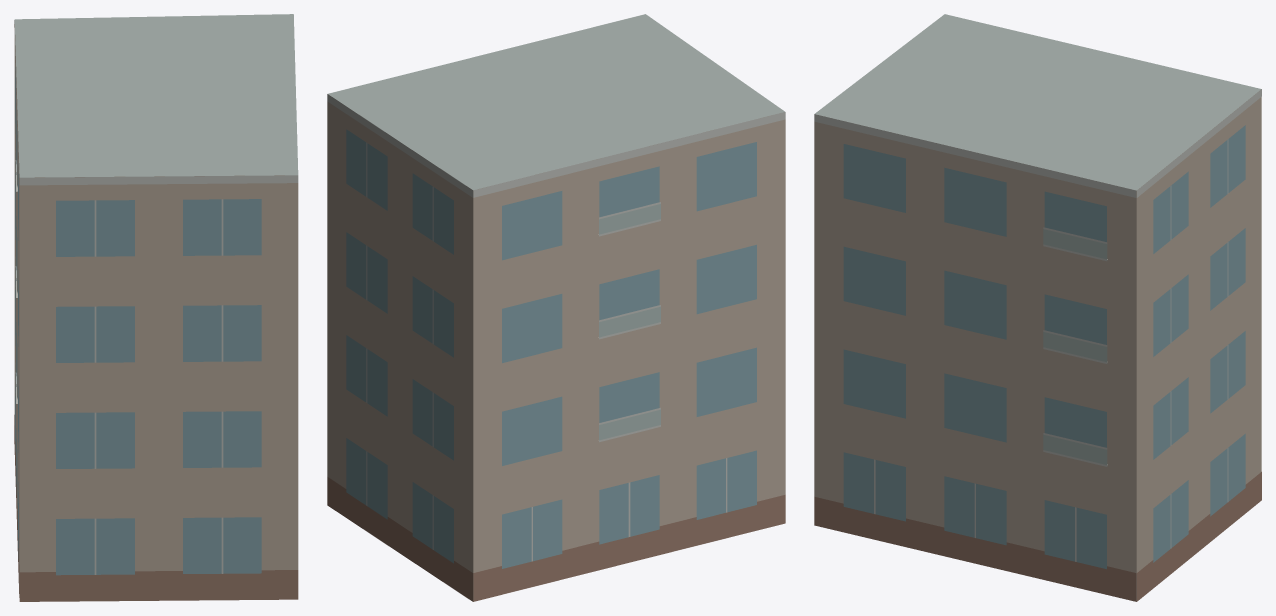
Rendered from survey-upis-32966864.glb.
3 views of the same model, side by side, from view 1: azimuth 30°, elevation 25°; view 2: azimuth 150°, elevation 25°; view 3: azimuth 270°, elevation 25° (orthographic). The views are drawn at different scales.
Parts seen in each view (by area): view 1: survey-upis-32966864.tmp; view 2: survey-upis-32966864.tmp; view 3: survey-upis-32966864.tmp.
Boxes of the visible parts, x1,y1,x2,y2 form: survey-upis-32966864.tmp: [14, 14, 298, 601]; survey-upis-32966864.tmp: [327, 14, 785, 601]; survey-upis-32966864.tmp: [814, 14, 1261, 601].
Size of the model in its own units: 12.21 by 13.25 by 13.07.
